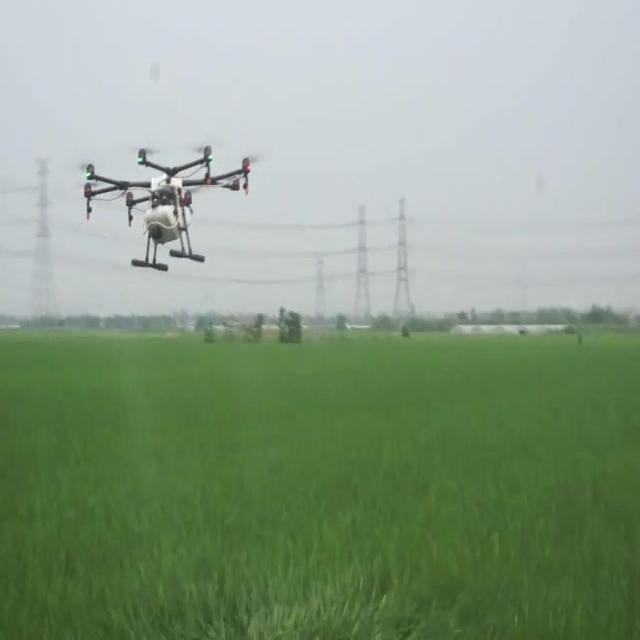drone: (81, 140, 256, 274)
